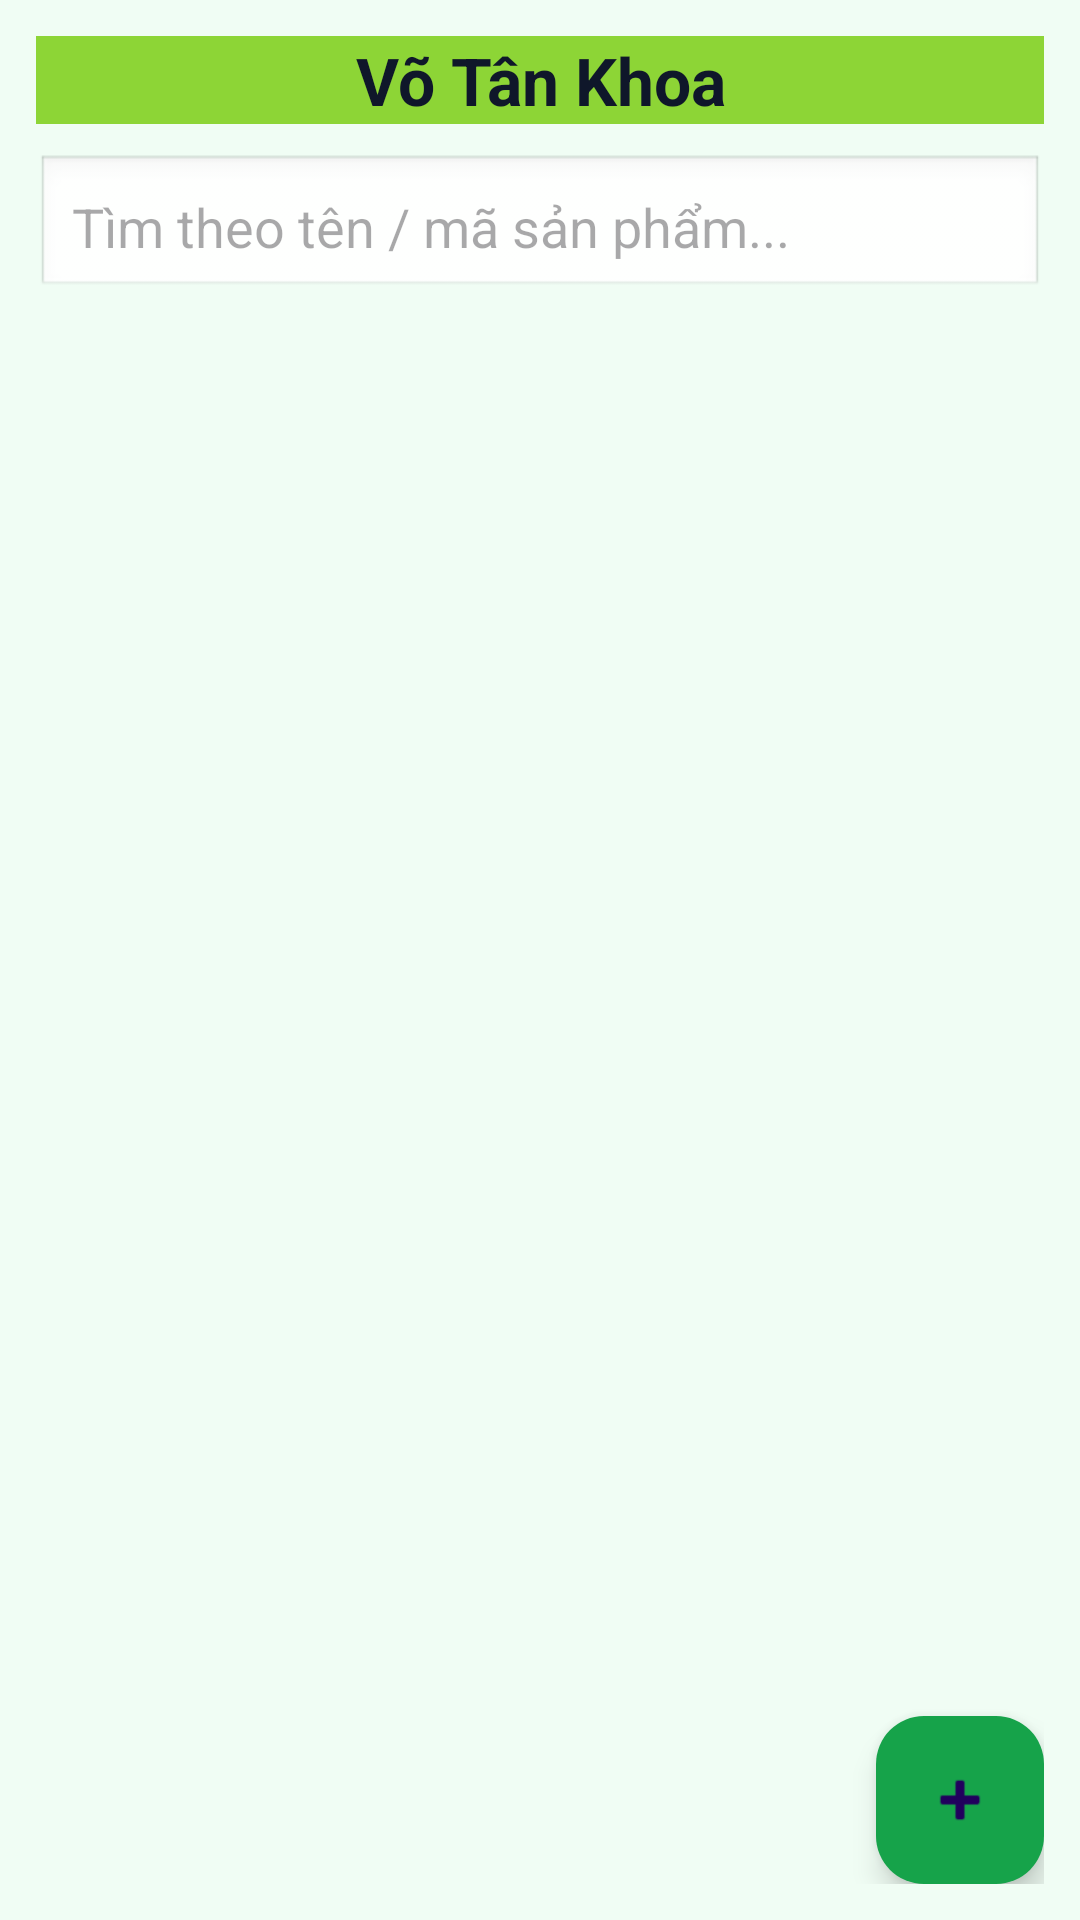

Named icons in this screenshot (1080 x 1920) and their centers, (x=x, y=y):
add: (x=960, y=1800)
